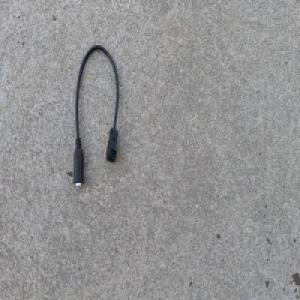Wire: (72, 42, 119, 189)
